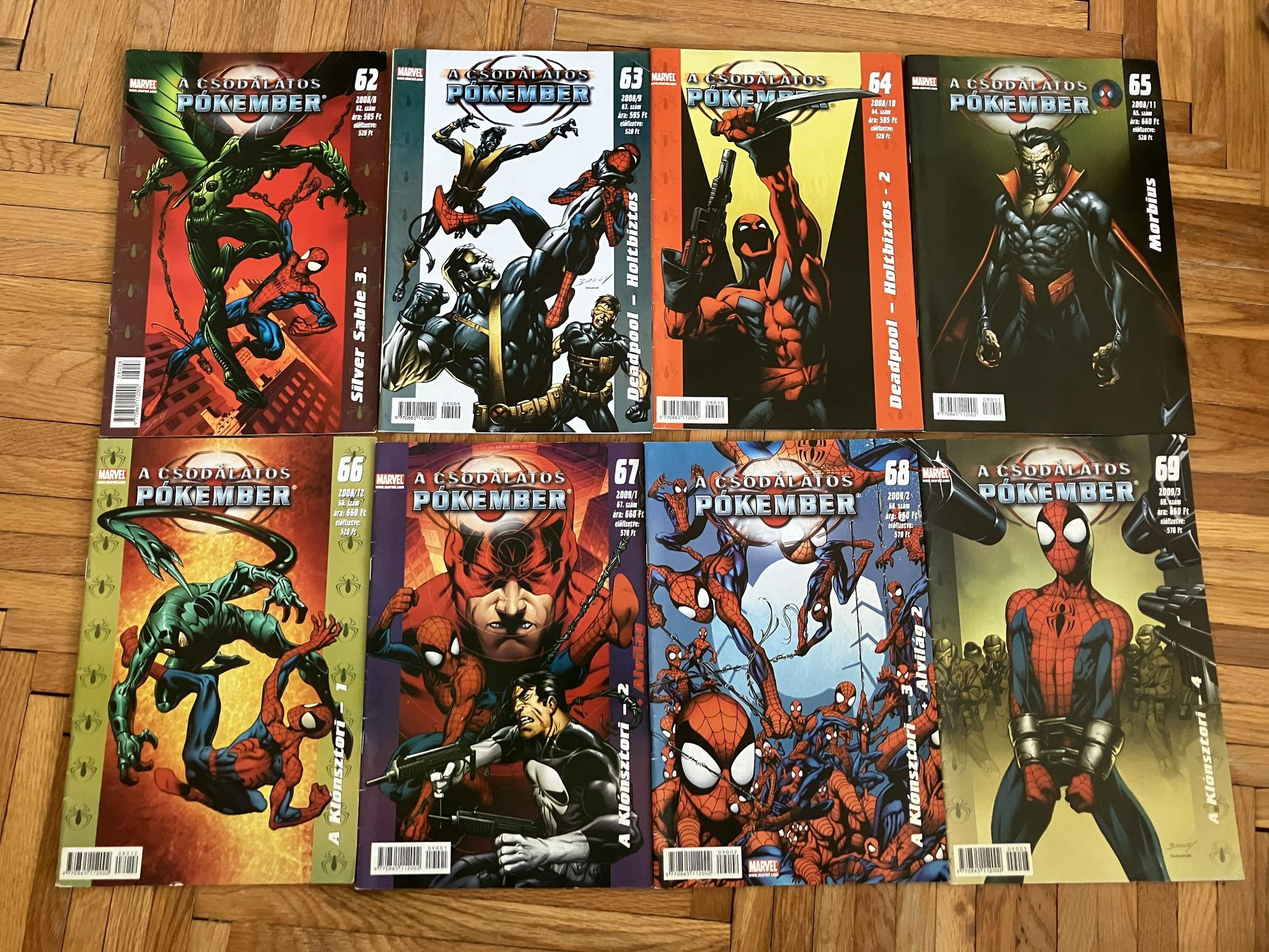comic: (912, 415, 1242, 904), (57, 420, 379, 901), (643, 436, 946, 887), (356, 442, 650, 888), (101, 43, 390, 445), (906, 42, 1193, 446), (380, 48, 653, 435), (652, 50, 922, 430)
